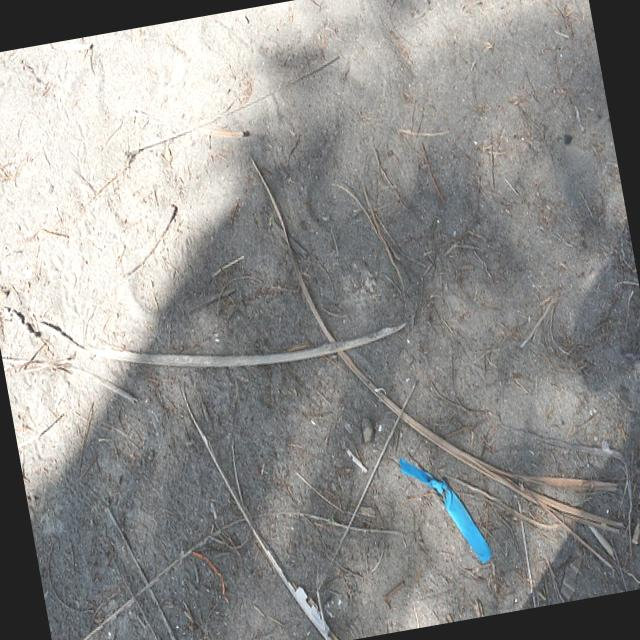Trash: (395, 436, 508, 582)
